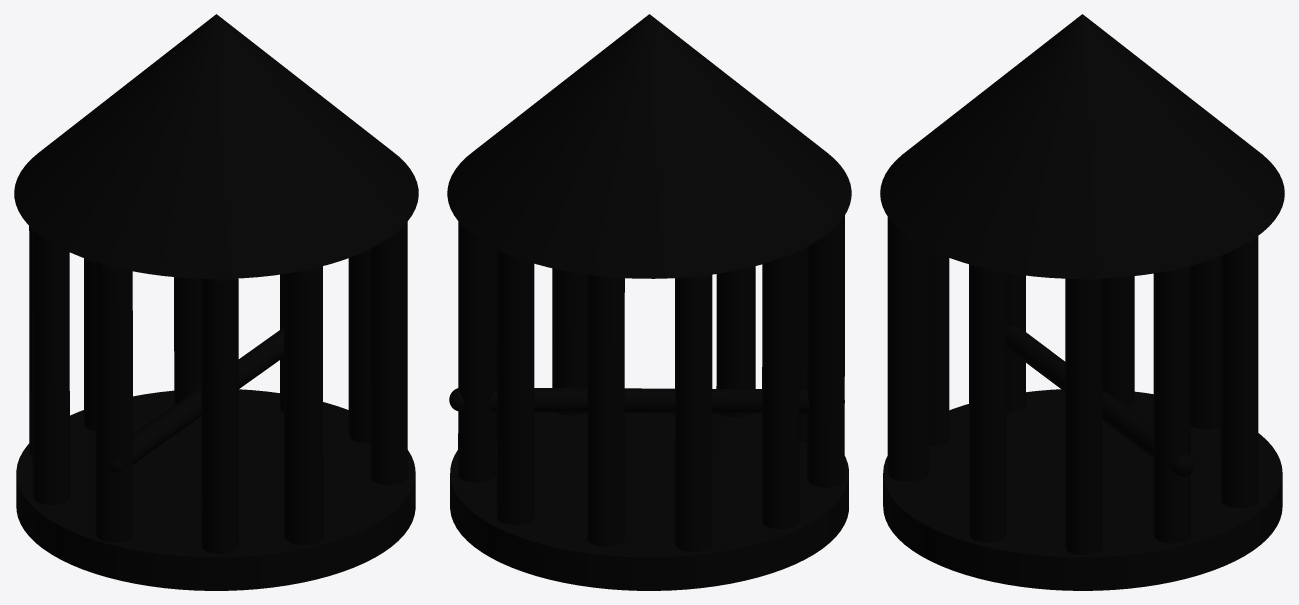
The model's file is Bird Cage.fbx.
The picture shows the model from 3 angles, left to right: view 1: azimuth 30°, elevation 25°; view 2: azimuth 150°, elevation 25°; view 3: azimuth 270°, elevation 25°; orthographic projection.
Visible parts, largest first — view 1: root (×13); view 2: root (×13); view 3: root (×13).
Boxes of the visible parts, x1,y1,x2,y2 form: root (×13): (14, 14, 418, 590); root (×13): (447, 14, 851, 590); root (×13): (880, 14, 1284, 590).
Size of the model in its own units: 0.2142 by 0.2878 by 0.2142.
16 materials, 16 textured.
